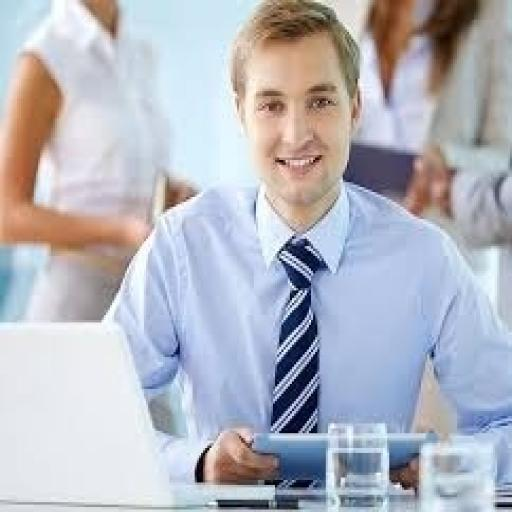sitting: (99, 0, 509, 487)
